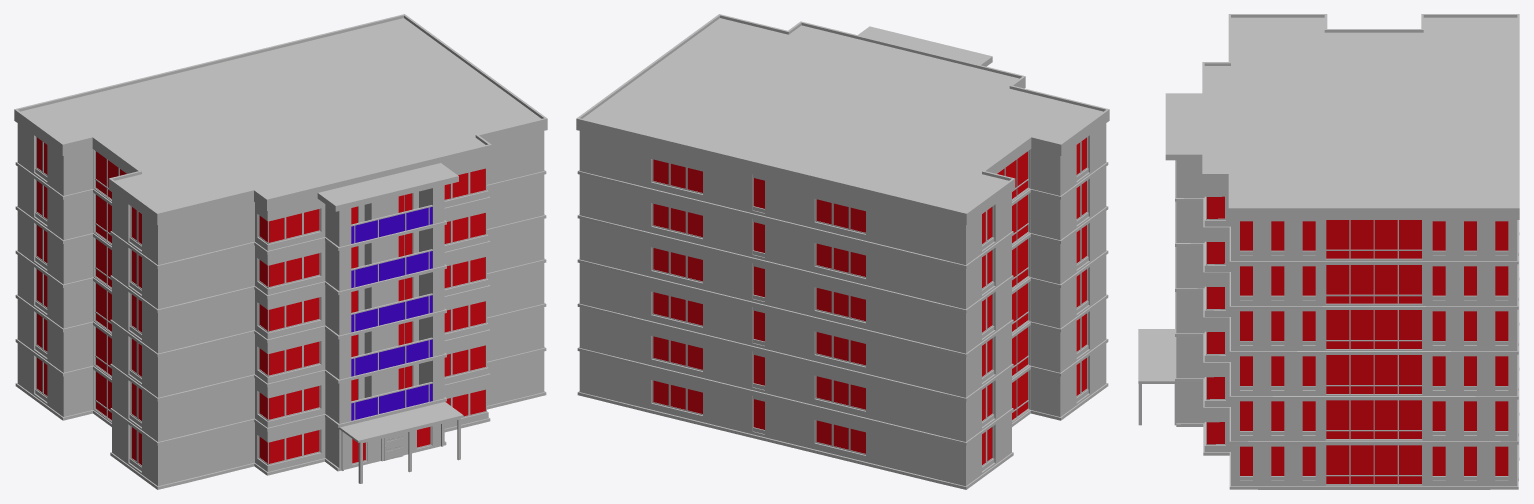
The model's file is SM_House_02.gltf.
3 views of the same model, side by side, from view 1: azimuth 30°, elevation 25°; view 2: azimuth 150°, elevation 25°; view 3: azimuth 270°, elevation 25° (orthographic).
Parts seen in each view (by area): view 1: House_02; view 2: House_02; view 3: House_02.
Part boxes in pixels (bbox=[...]): House_02: bbox=[14, 14, 547, 489]; House_02: bbox=[576, 14, 1109, 489]; House_02: bbox=[1138, 14, 1519, 489].
Size of the model in its own units: 32.35 by 21.9 by 26.86.
